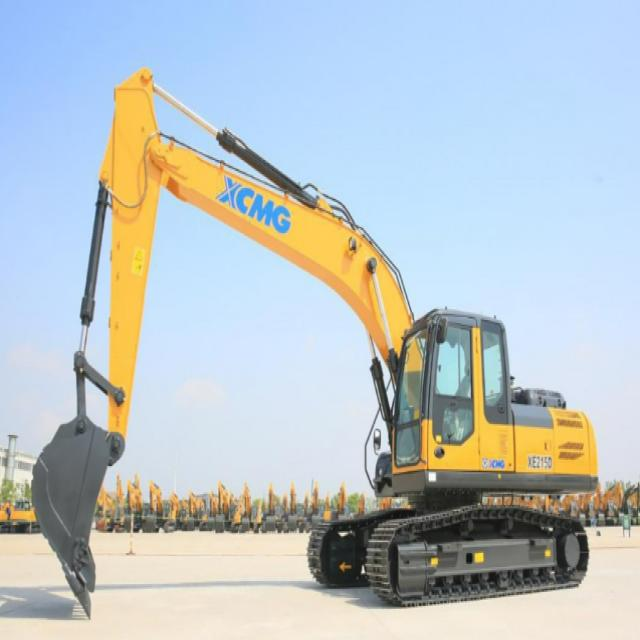Excavator: (33, 68, 599, 619)
